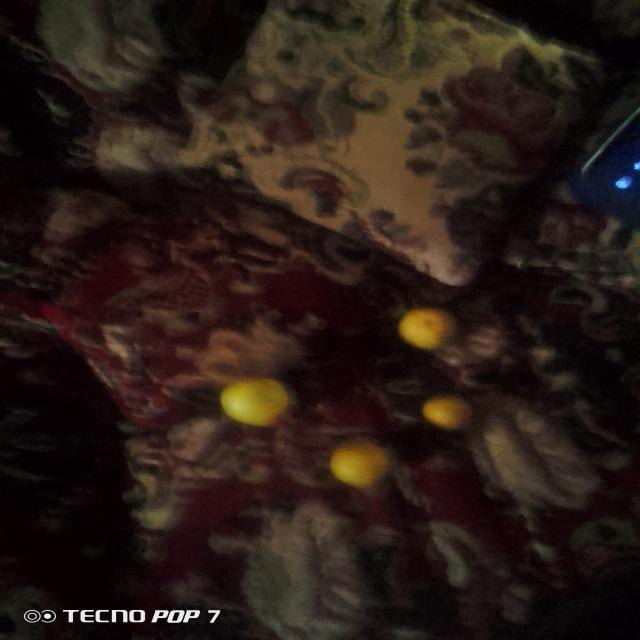Ripe orange: (413, 375, 486, 447), (217, 368, 293, 429), (392, 296, 450, 359), (324, 437, 392, 490)
